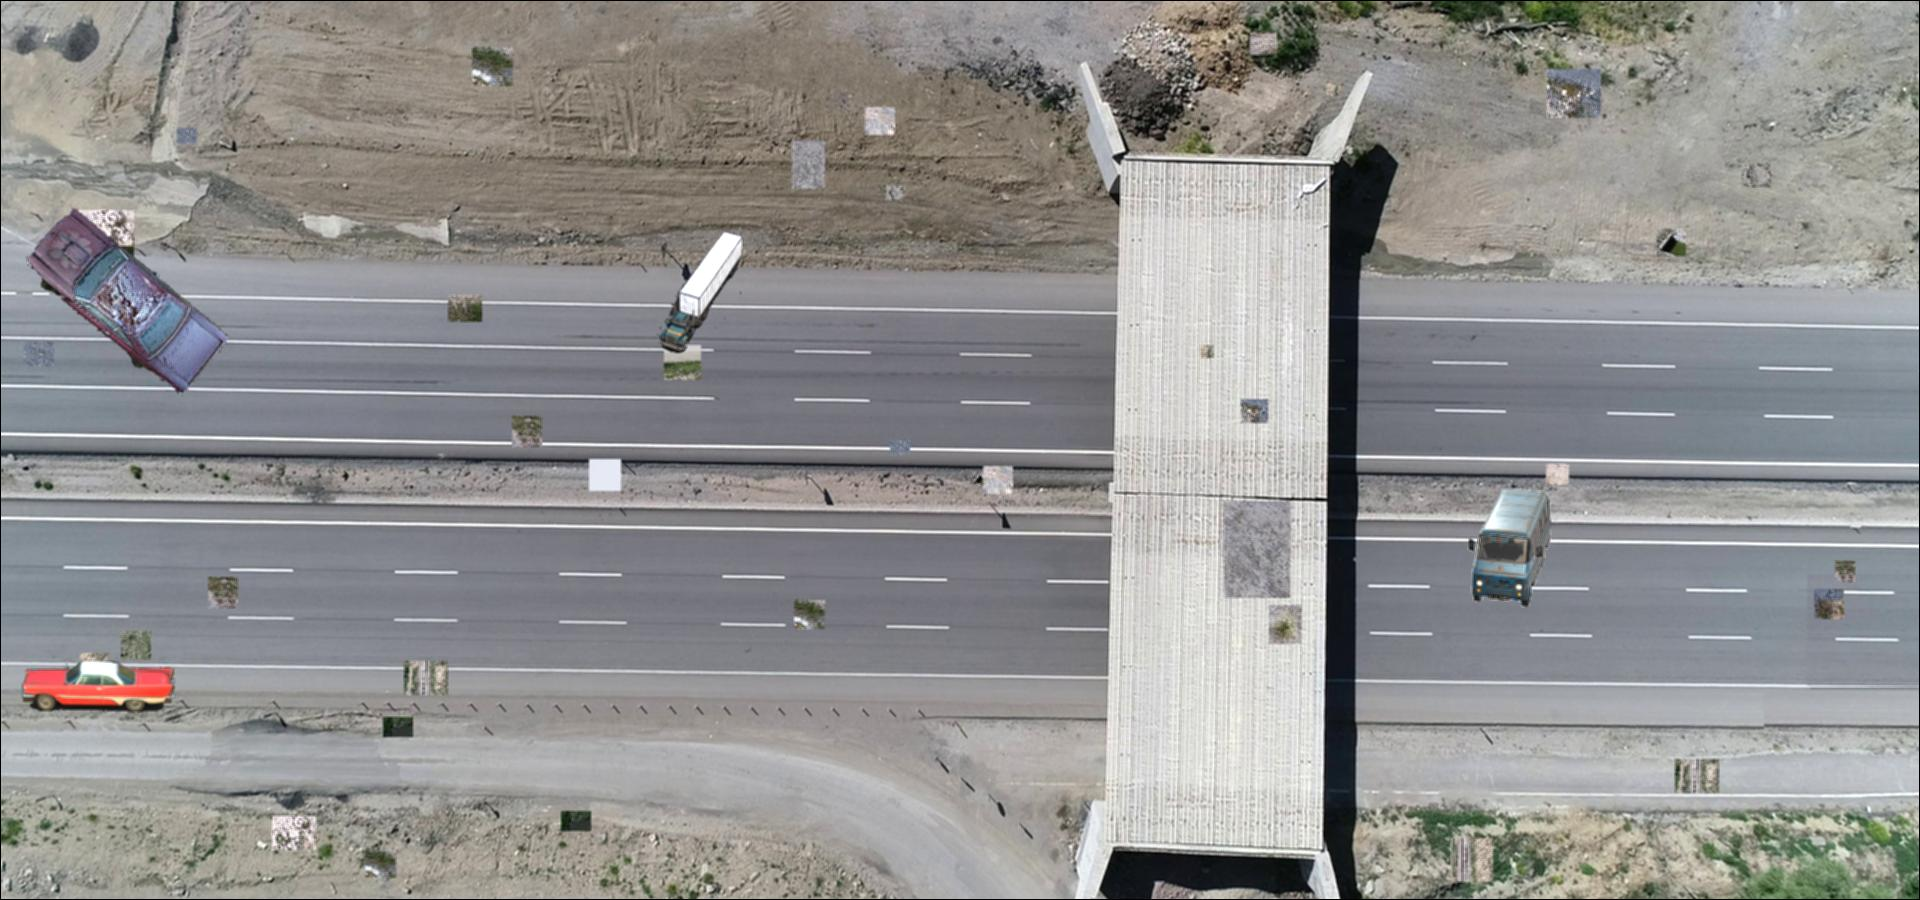arac: (18, 202, 228, 397), (656, 230, 744, 355), (1466, 486, 1551, 607), (20, 661, 179, 714)
